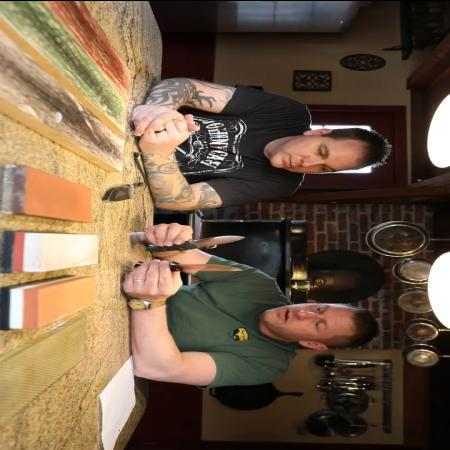long weapon: (150, 256, 250, 296), (161, 221, 251, 253)
